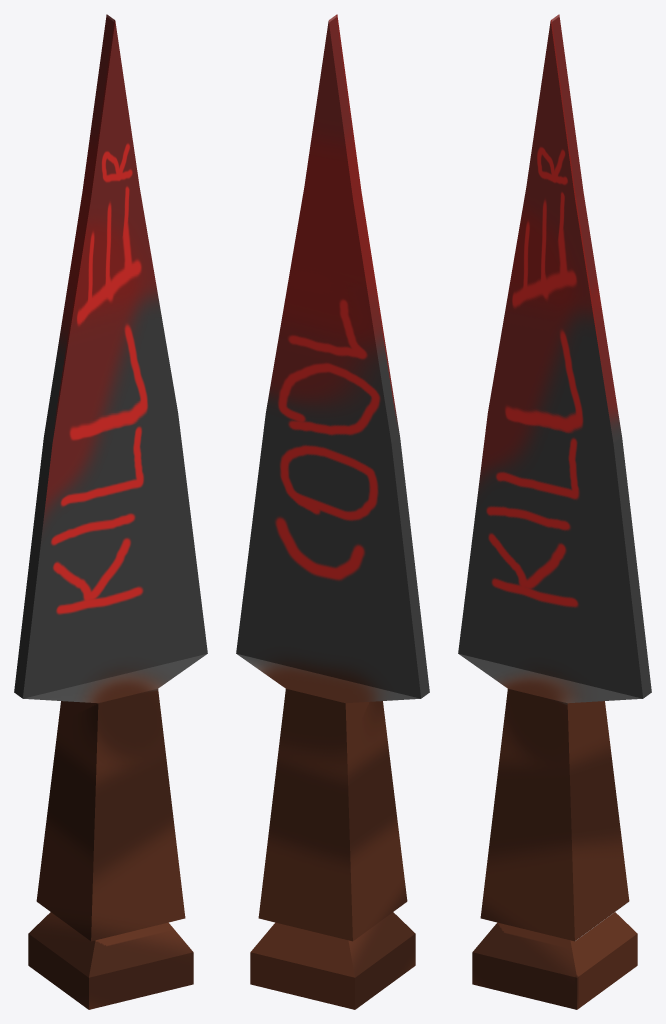
Rendered from coolkiller.glb.
The picture shows the model from 3 angles, left to right: view 1: azimuth 30°, elevation 25°; view 2: azimuth 150°, elevation 25°; view 3: azimuth 330°, elevation 25°; orthographic projection.
Visible parts, largest first — view 1: Cube; view 2: Cube; view 3: Cube.
Part boxes in pixels (left/top/right/bottom): Cube: left=14, top=14, right=207, bottom=1009; Cube: left=236, top=14, right=429, bottom=1009; Cube: left=458, top=14, right=651, bottom=1009.
Size of the model in its own units: 1.35 by 6.66 by 0.7619.
Materials: 1 (1 with a texture image).
